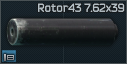Rotor 43 7.62x39 muzzle brake: (0, 0, 127, 64)
